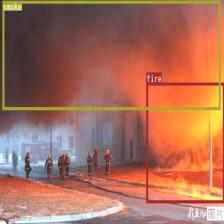fire: (145, 82, 224, 202)
smoke: (2, 0, 220, 110)
